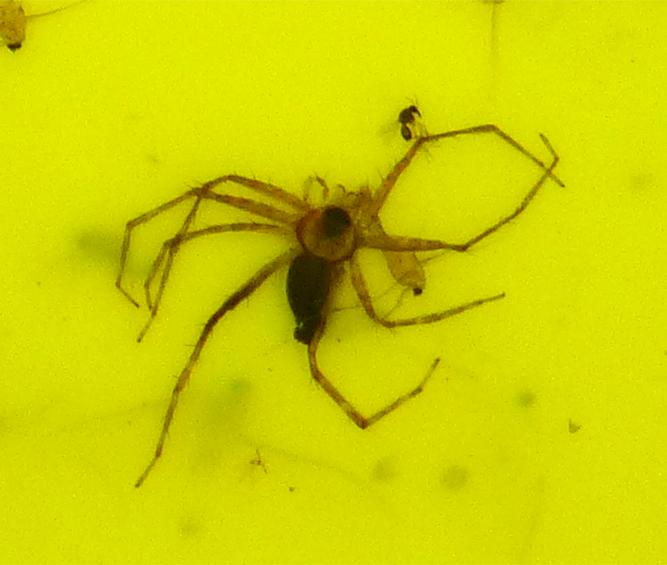Araneae: (100, 100, 567, 465)
Brachycera: (395, 102, 424, 144)
Ephemeroptera: (355, 178, 436, 301)
